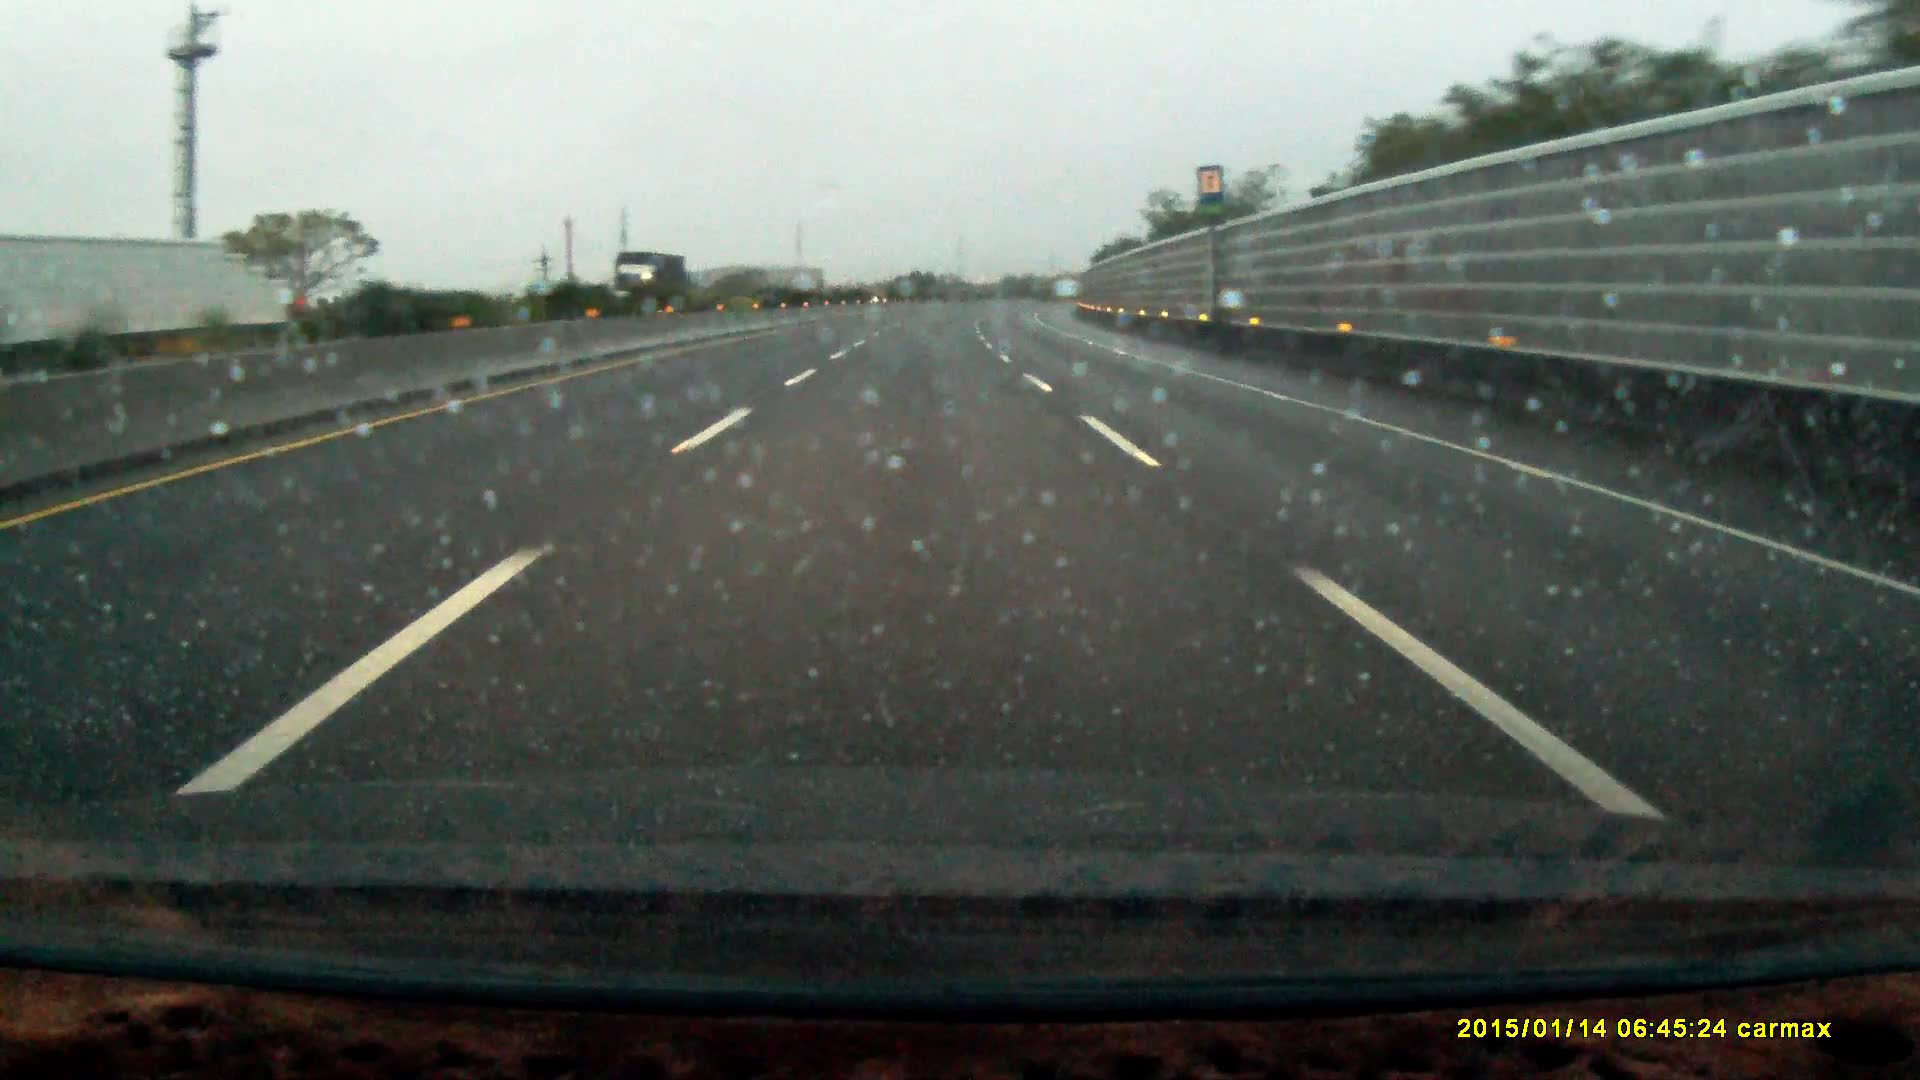vehicle: (612, 248, 691, 313)
